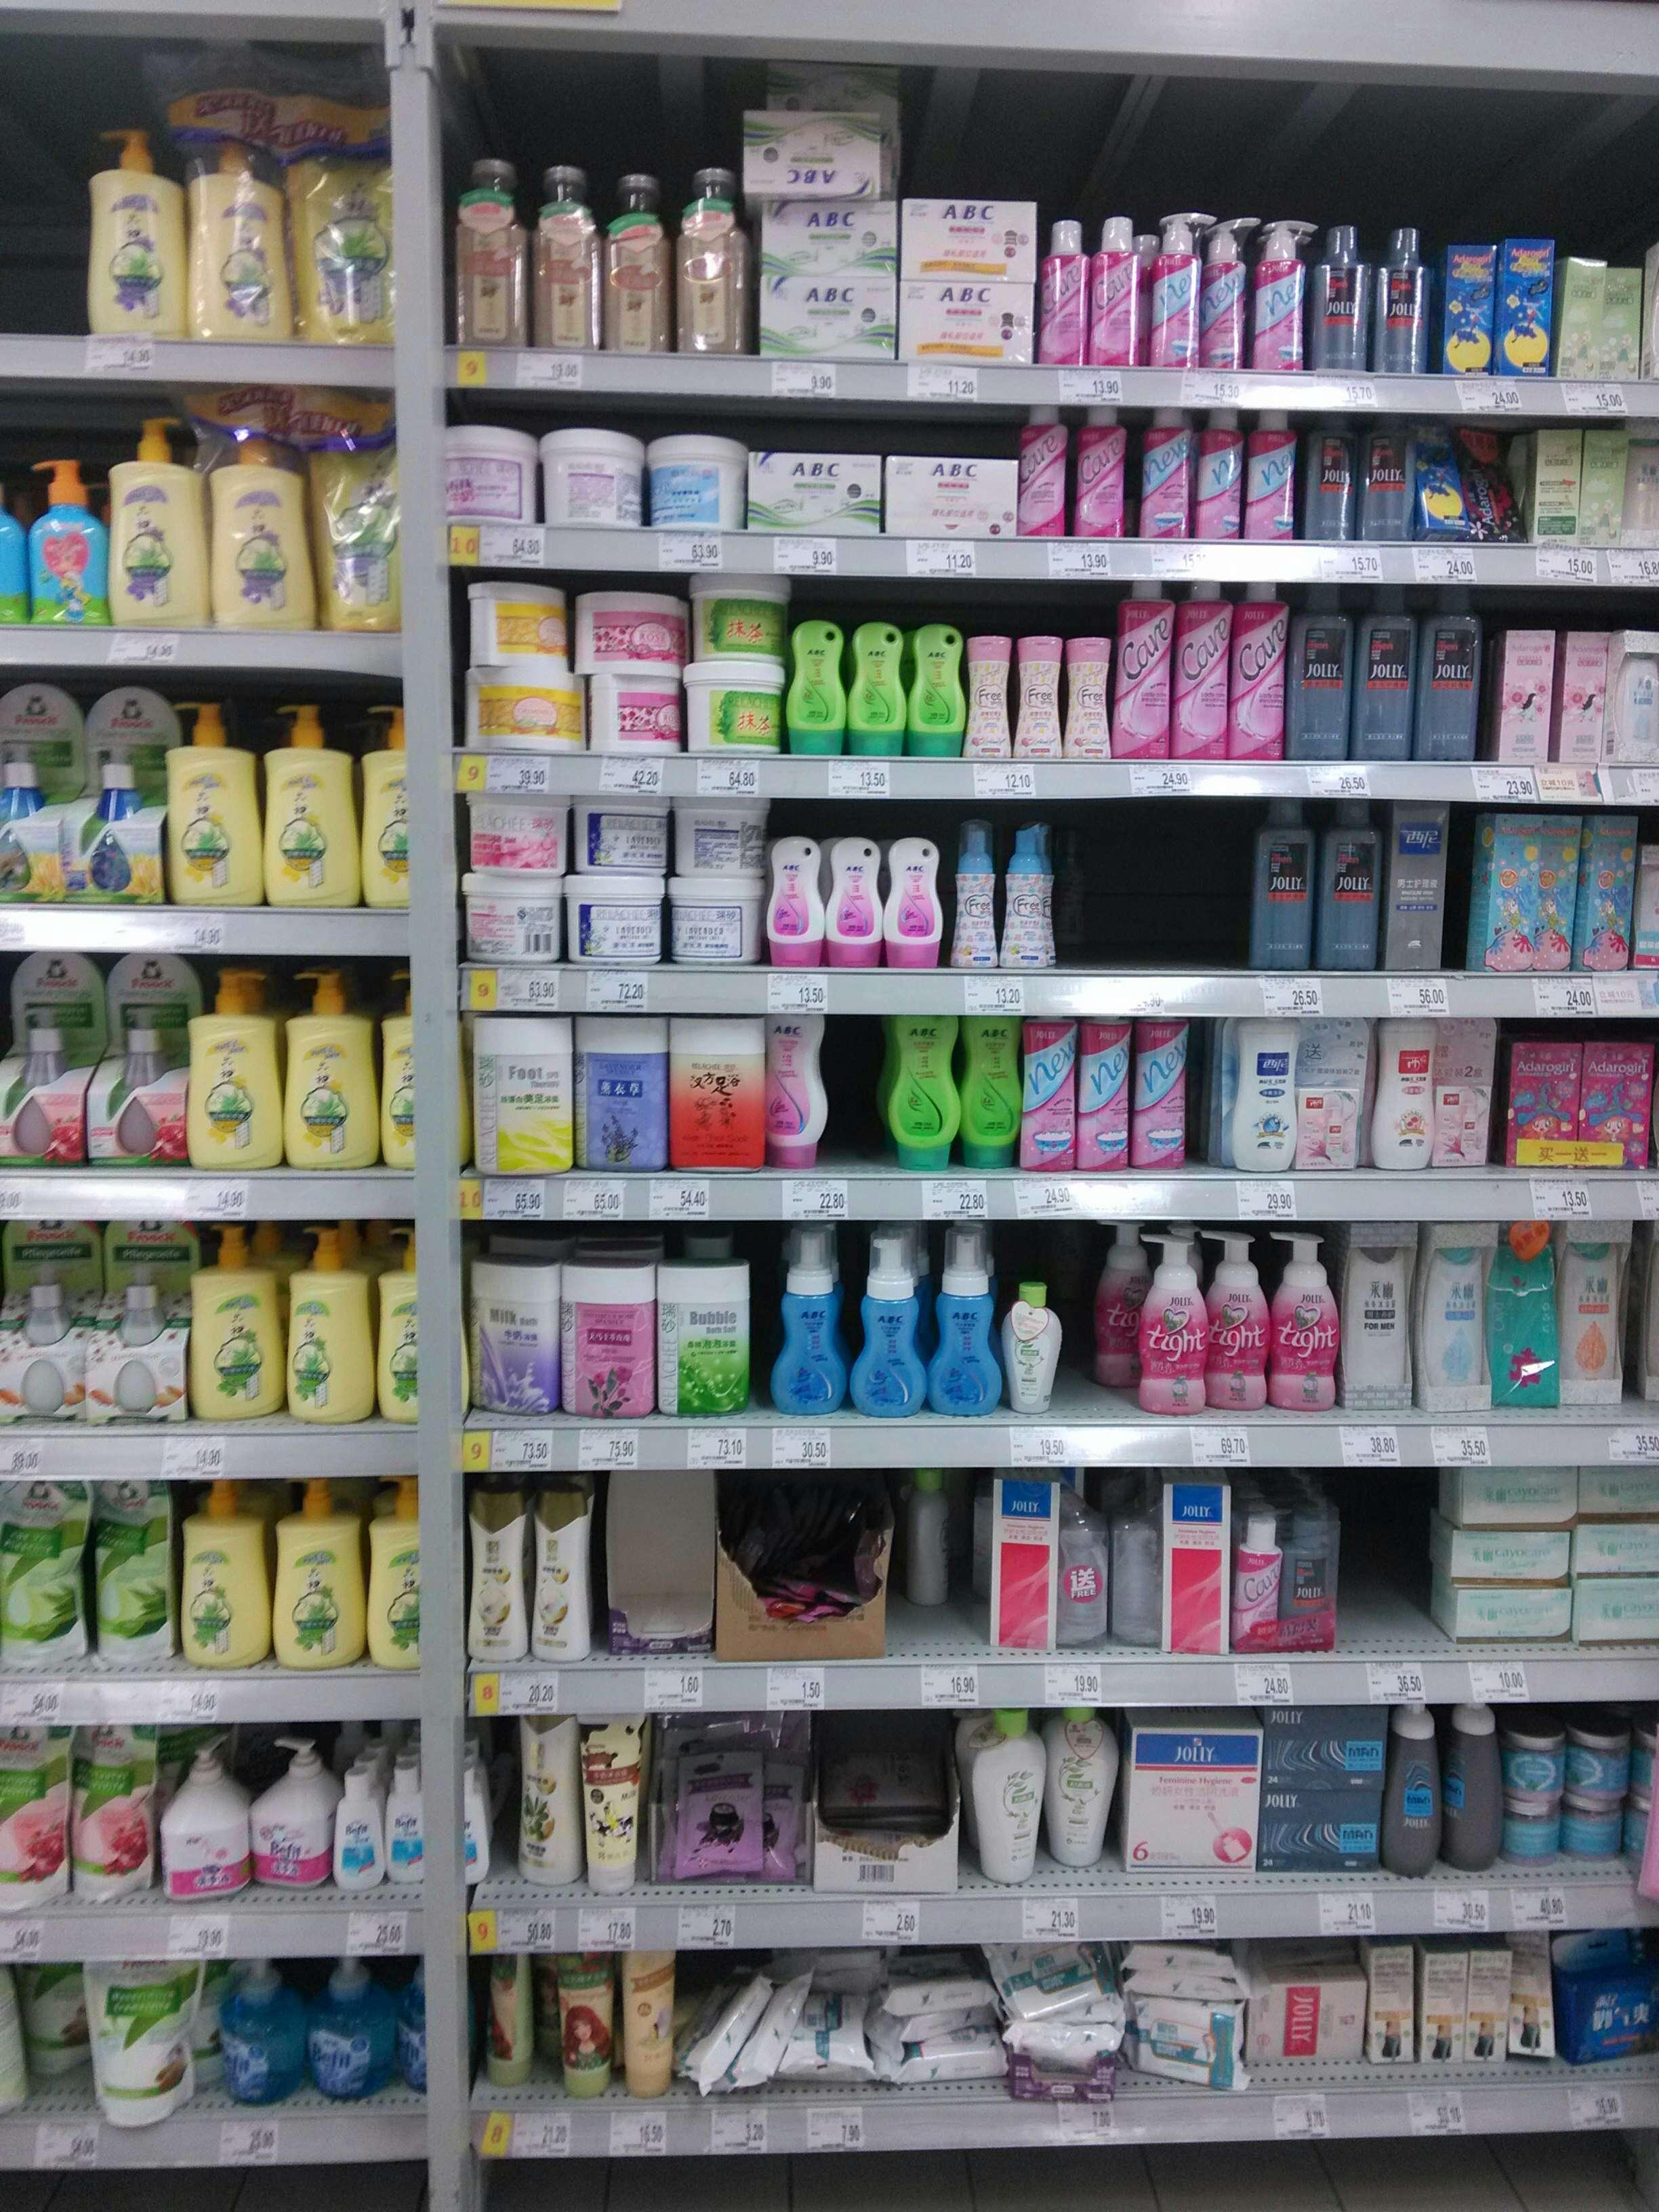misalignment: (1006, 1944, 1131, 2097), (1138, 1944, 1256, 2099), (687, 1952, 795, 2087), (875, 1942, 1007, 2045), (1567, 1928, 1656, 2069), (474, 1952, 540, 2094), (1506, 1928, 1563, 2073)
